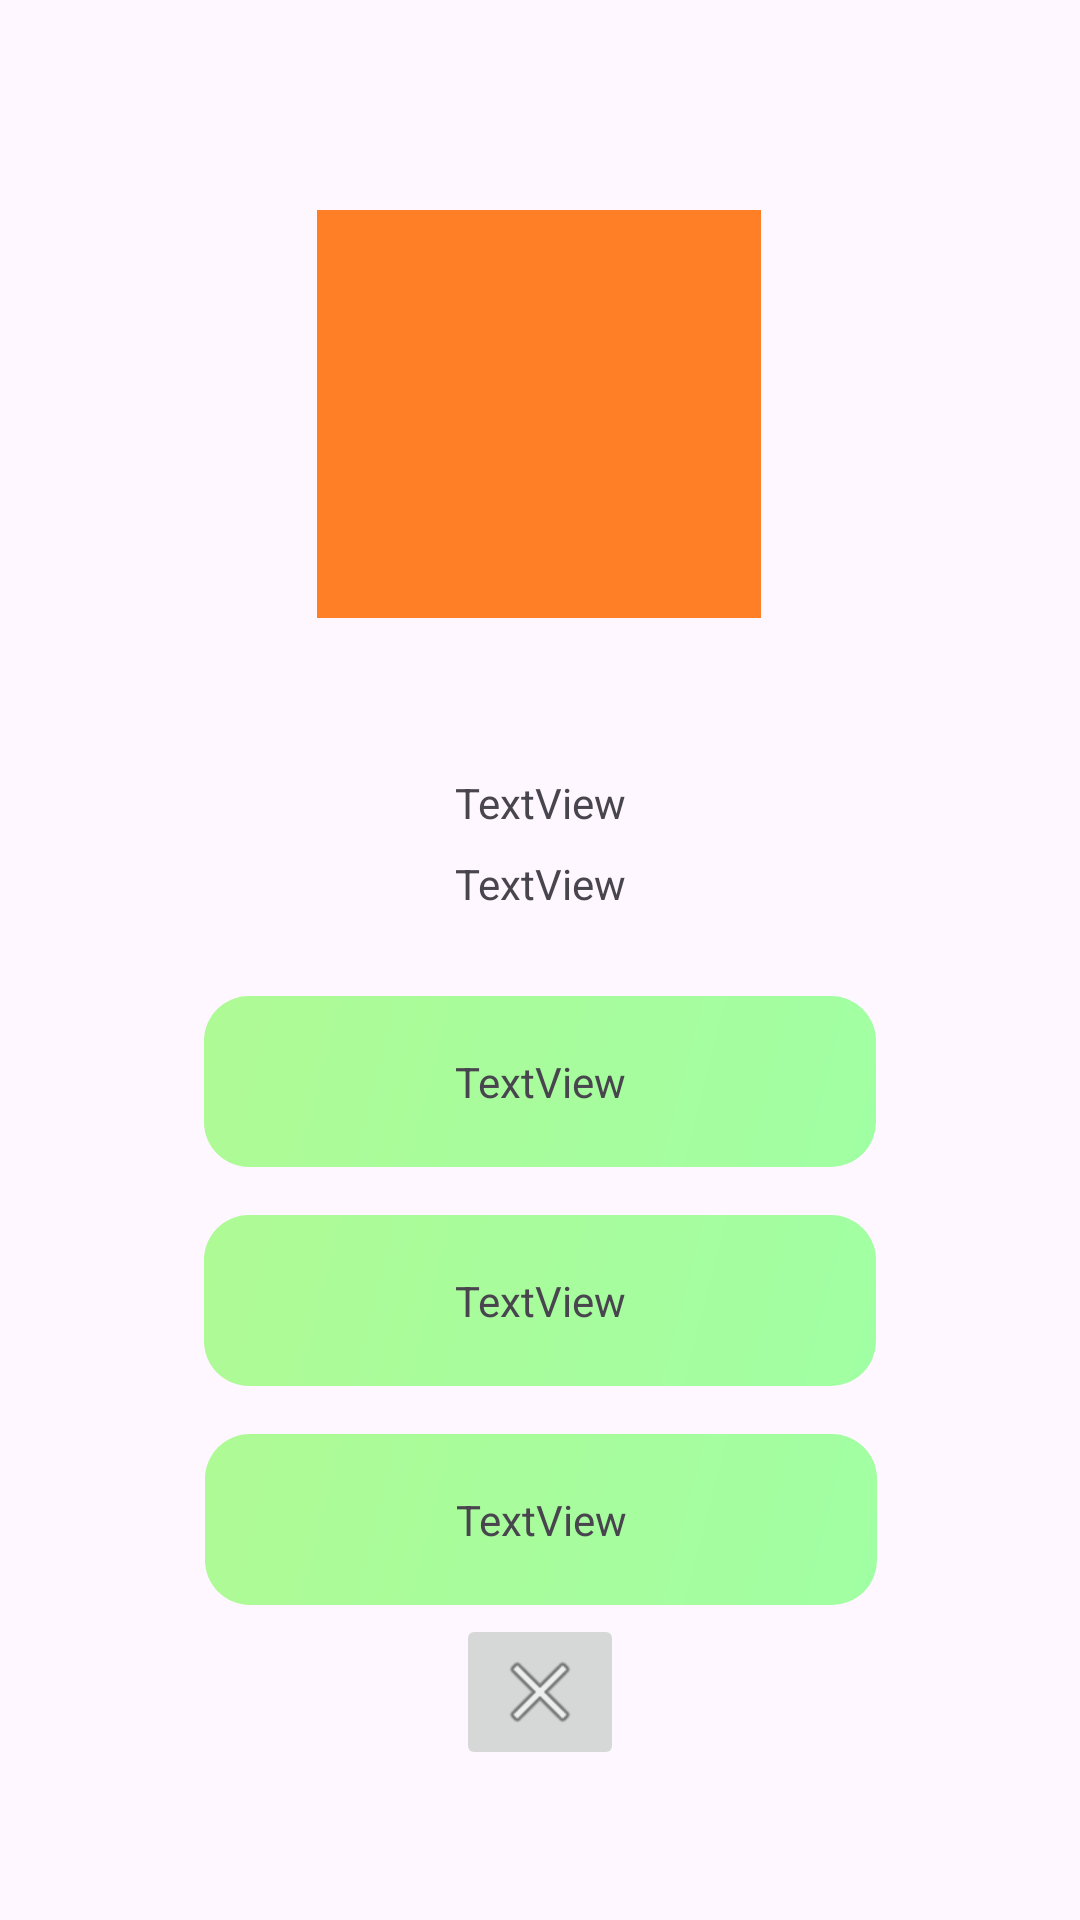

Named icons in this screenshot (1080 × 1920) and their centers, (x,y):
close clear cancel: (540,1692)
